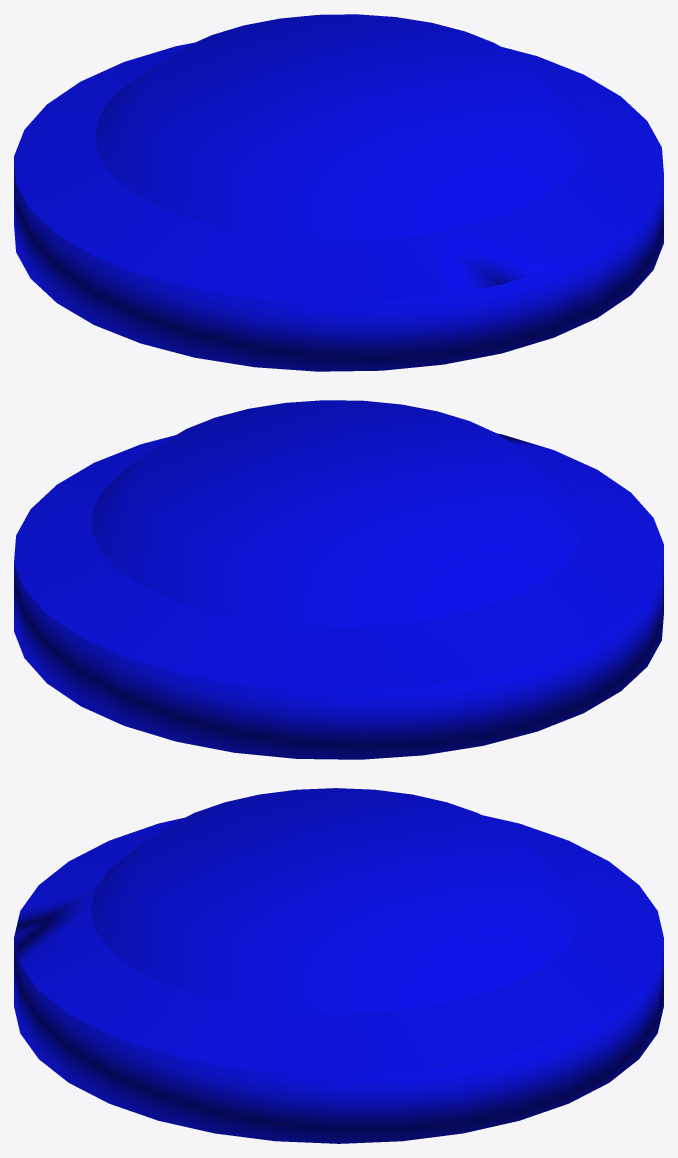
Rendered from Blue.fbx.
3 views of the same model, one above another, from view 1: azimuth 30°, elevation 25°; view 2: azimuth 150°, elevation 25°; view 3: azimuth 270°, elevation 25° (orthographic).
Parts seen in each view (by area): view 1: Cylinder.001; view 2: Cylinder.001; view 3: Cylinder.001.
Boxes of the visible parts, x1,y1,x2,y2 form: Cylinder.001: (14,14,663,371); Cylinder.001: (14,400,663,759); Cylinder.001: (14,788,663,1143).
Size of the model in its own units: 200 by 46 by 200.
